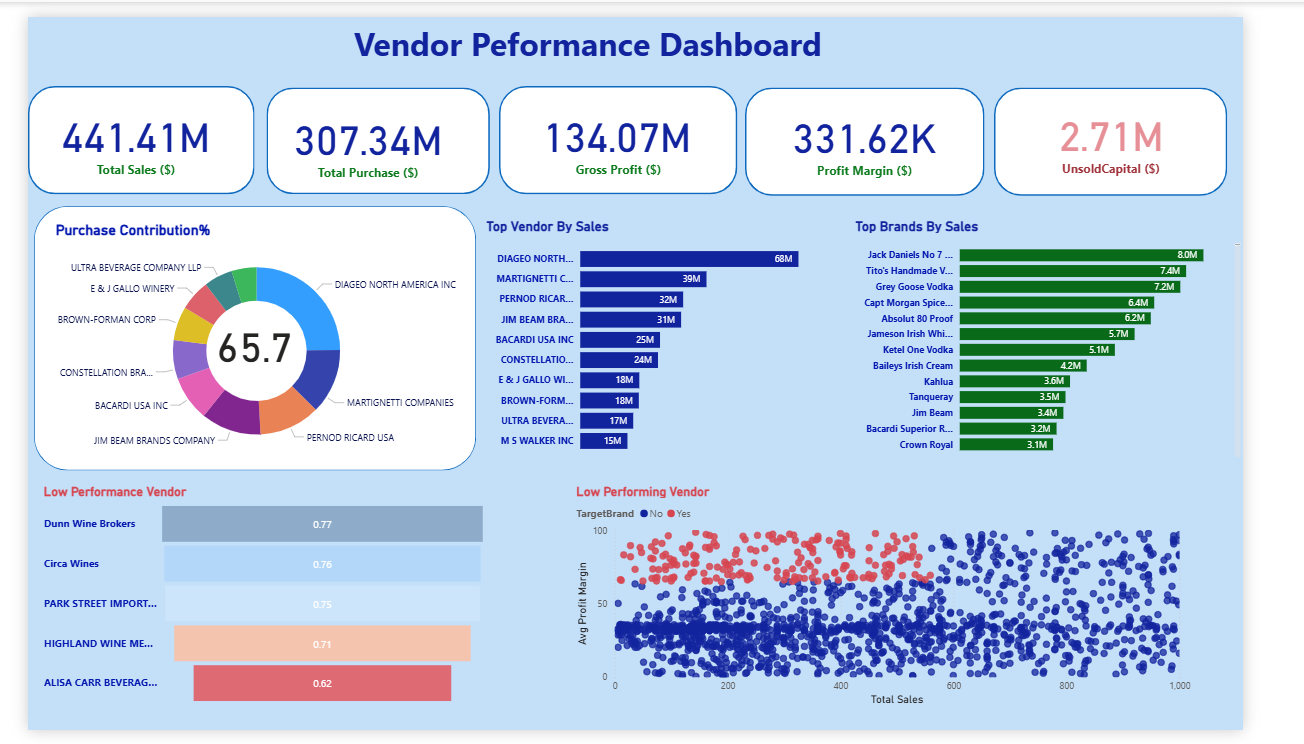

The page's visual inventory and layout, read from the dashboard file:
{"tool":"powerbi","page":{"name":"Page 1","canvas":[1620,950],"ordinal":0},"visuals":[{"type":"clusteredBarChart","title":"Top  Vendor By Sales","fields":{"Category":["vendor_sales_summarys.VendorName"],"Y":["Sum(vendor_sales_summarys.TotalSalesDollars)"]},"box":[605.3,268.4,468.4,323.7],"z":0},{"type":"clusteredBarChart","title":"Top Brands By Sales","fields":{"Category":["vendor_sales_summarys.Description"],"Y":["Sum(vendor_sales_summarys.TotalSalesDollars)"]},"box":[1097.4,268.4,523.7,323.7],"z":1000},{"type":"funnel","title":"Low Performance Vendor","fields":{"Category":["LowTurnoverVendor.VendorName"],"Y":["Avg(LowTurnoverVendor.AvgStockTurnOver)"]},"box":[15.8,621.1,600,300],"z":2000},{"type":"scatterChart","title":"Low Performing Vendor","fields":{"Category":["BrandPerformance.Description"],"X":["Sum(BrandPerformance.TotalSales)"],"Y":["Sum(BrandPerformance.AvgProfitMargin)"],"Series":["BrandPerformance.TargetBrand"]},"box":[726.3,621.1,828.9,300],"z":3000},{"type":"textbox","box":[330.6,0,833.3,91.7],"z":4000},{"type":"shape","box":[0,91.1,302.2,144.4],"z":5000},{"type":"card","fields":{"Values":["Sum(vendor_sales_summarys.TotalSalesDollars)"]},"box":[28.9,106.7,231.1,117.8],"z":6000},{"type":"shape","box":[317.8,93.3,297.8,142.2],"z":7000},{"type":"card","fields":{"Values":["Sum(vendor_sales_summarys.TotalPurchaseDollars)"]},"box":[331.1,111.1,242.2,113.3],"z":8000},{"type":"shape","box":[1288.9,94.4,311,144.4],"z":9000},{"type":"card","fields":{"Values":["vendor_sales_summarys.UnsoldCapital ($)"]},"box":[1302.8,105.6,283.3,113.9],"z":10000},{"type":"shape","box":[955.6,94.4,319.4,144.4],"z":11000},{"type":"shape","box":[628.9,91.1,317.8,144.4],"z":12000},{"type":"card","fields":{"Values":["Sum(vendor_sales_summarys.ProfitMargin)"]},"box":[984.4,108.9,262.2,115.6],"z":13000},{"type":"card","fields":{"Values":["Sum(vendor_sales_summarys.GrossProfit)"]},"box":[648.9,102.2,273.3,124.4],"z":14000},{"type":"shape","box":[7.9,252.6,589.5,352.6],"z":15000},{"type":"donutChart","title":"Purchase Contribution%","fields":{"Category":["PurchaseContribution.VendorName"],"Y":["Sum(PurchaseContribution.PurchaseContribution %)"]},"box":[31.6,271.1,544.7,323.7],"z":16000},{"type":"card","fields":{"Values":["PurchaseContribution.Top5VendorsContribution"]},"box":[242.1,384.2,118.4,100],"z":16001}]}

Visuals, with their boxes in screenshot pixels (x1, y1, x2, y2), scaled from the page's 1620x950 canvas onto the 1304x744 screenshot:
"Top  Vendor By Sales" clusteredBarChart: [x1=487, y1=210, x2=864, y2=464]
"Top Brands By Sales" clusteredBarChart: [x1=883, y1=210, x2=1303, y2=464]
"Low Performance Vendor" funnel: [x1=13, y1=486, x2=496, y2=721]
"Low Performing Vendor" scatterChart: [x1=585, y1=486, x2=1252, y2=721]
textbox: [x1=266, y1=0, x2=937, y2=72]
shape: [x1=0, y1=71, x2=243, y2=184]
card - Sum(vendor_sales_summarys.TotalSalesDollars): [x1=23, y1=84, x2=209, y2=176]
shape: [x1=256, y1=73, x2=496, y2=184]
card - Sum(vendor_sales_summarys.TotalPurchaseDollars): [x1=267, y1=87, x2=461, y2=176]
shape: [x1=1037, y1=74, x2=1288, y2=187]
card - vendor_sales_summarys.UnsoldCapital ($): [x1=1049, y1=83, x2=1277, y2=172]
shape: [x1=769, y1=74, x2=1026, y2=187]
shape: [x1=506, y1=71, x2=762, y2=184]
card - Sum(vendor_sales_summarys.ProfitMargin): [x1=792, y1=85, x2=1003, y2=176]
card - Sum(vendor_sales_summarys.GrossProfit): [x1=522, y1=80, x2=742, y2=177]
shape: [x1=6, y1=198, x2=481, y2=474]
"Purchase Contribution%" donutChart: [x1=25, y1=212, x2=464, y2=466]
card - PurchaseContribution.Top5VendorsContribution: [x1=195, y1=301, x2=290, y2=379]
